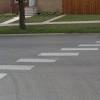Crosswalk: (5, 44, 100, 74)
